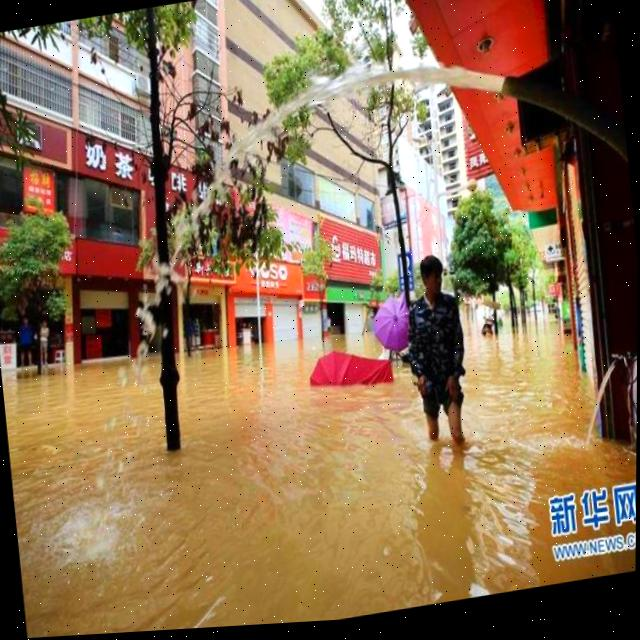civilian: (390, 239, 488, 458)
